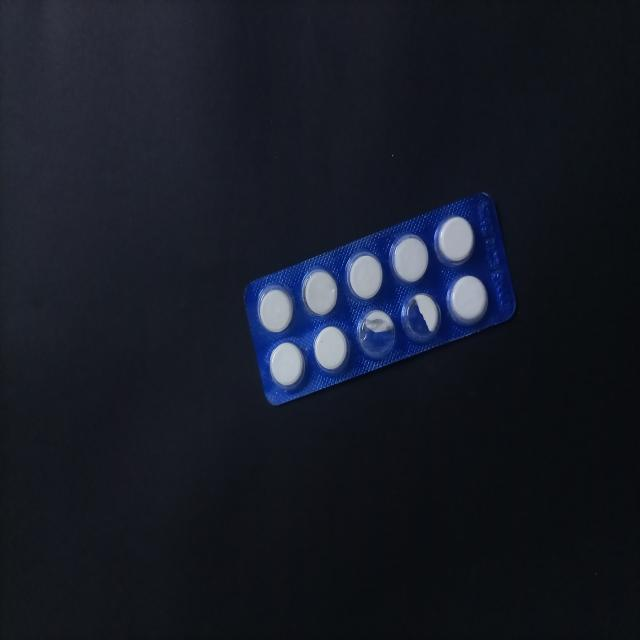defect: (353, 306, 397, 362), (400, 290, 444, 344)
